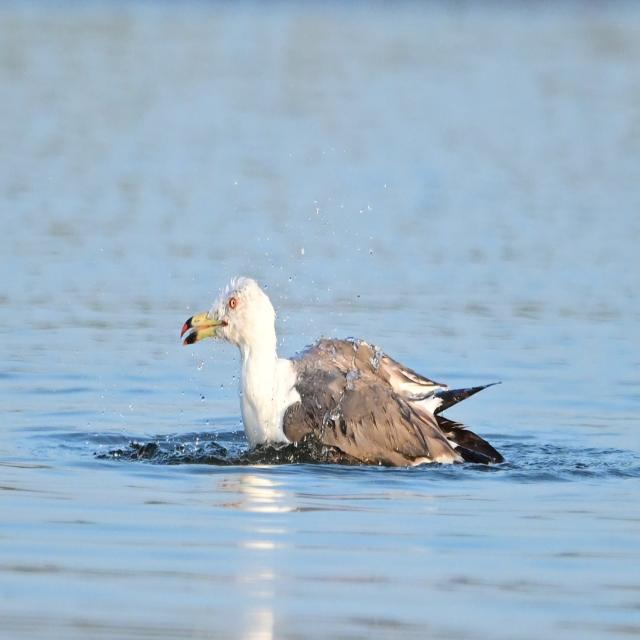bird: (174, 267, 516, 467)
